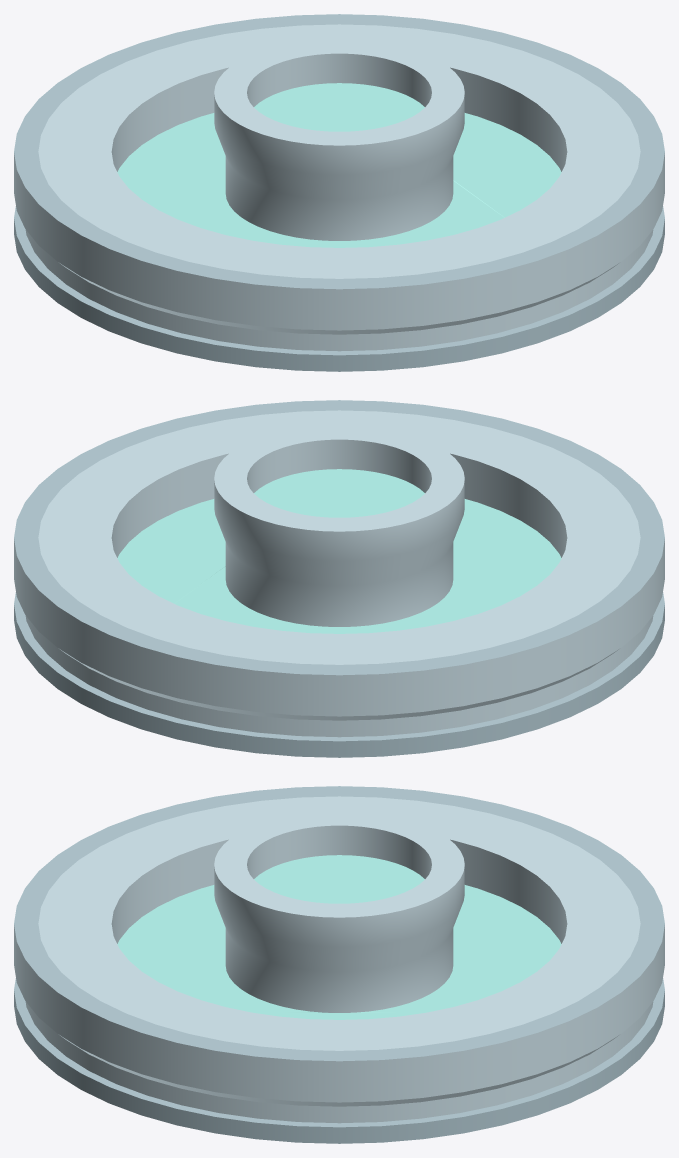
Rendered from fountainRoundDetail.fbx.
The picture shows the model from 3 angles, top to bottom: view 1: azimuth 30°, elevation 25°; view 2: azimuth 150°, elevation 25°; view 3: azimuth 270°, elevation 25°; orthographic projection.
Parts seen in each view (by area): view 1: fountainRoundDetail, fountainRoundDetail.001; view 2: fountainRoundDetail, fountainRoundDetail.001; view 3: fountainRoundDetail, fountainRoundDetail.001.
Boxes of the visible parts, bbox=[...] form: fountainRoundDetail: bbox=[14, 14, 664, 371]; fountainRoundDetail.001: bbox=[117, 83, 561, 247]; fountainRoundDetail: bbox=[14, 400, 664, 757]; fountainRoundDetail.001: bbox=[117, 469, 561, 633]; fountainRoundDetail: bbox=[14, 786, 664, 1143]; fountainRoundDetail.001: bbox=[117, 855, 561, 1019].
Size of the model in its own units: 200 by 48 by 200.
